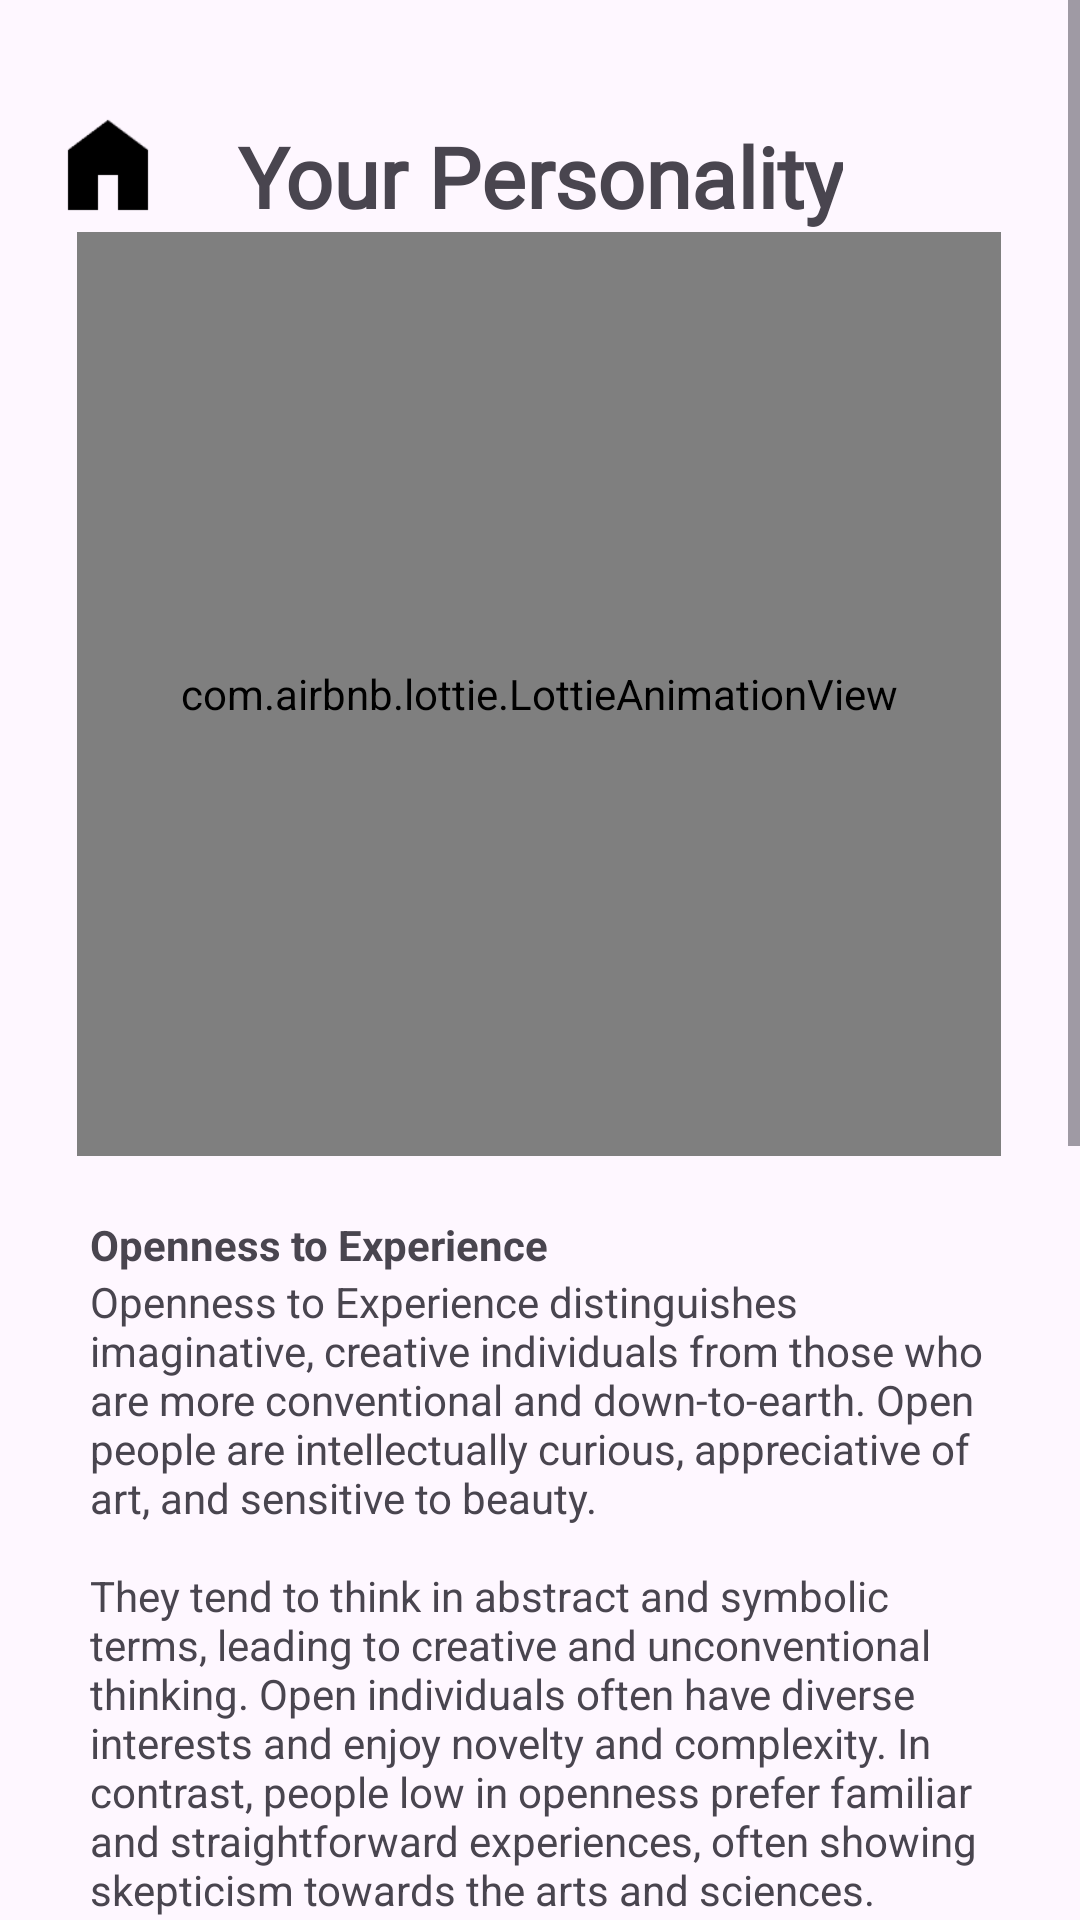

Named icons in this screenshot (1080 x 1920) and their bounding boxes, (x1, y1, x2, y2):
homeicon: (67, 120, 149, 211)
